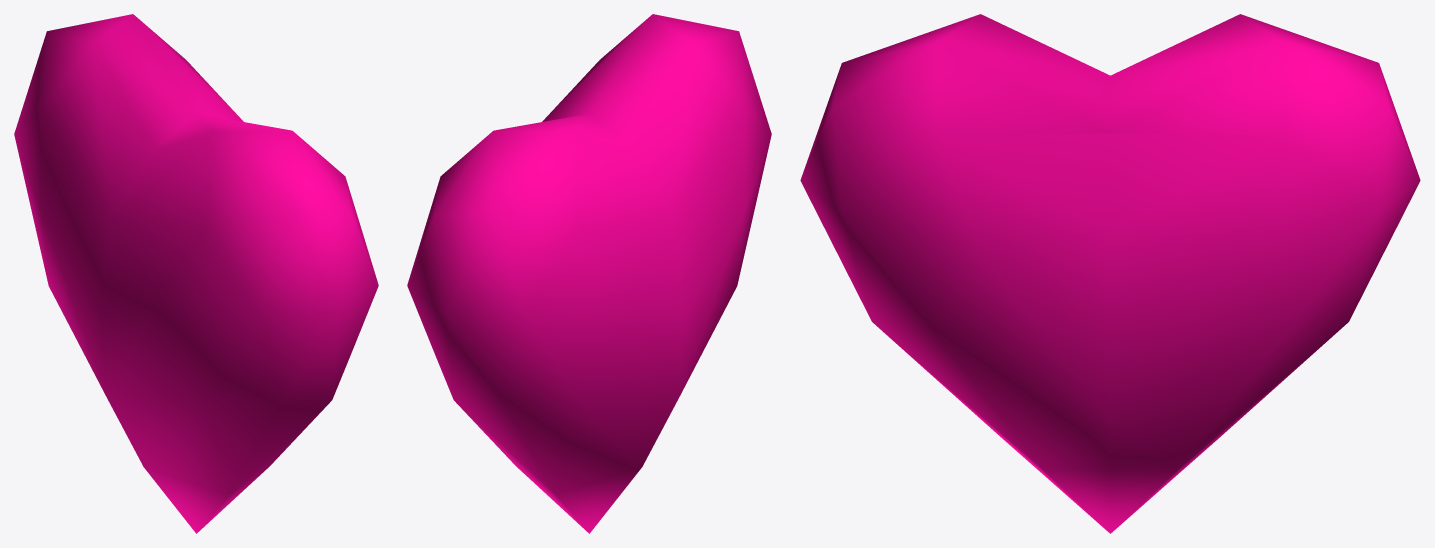
File: heart.glb
3 views of the same model, side by side, from view 1: azimuth 30°, elevation 25°; view 2: azimuth 150°, elevation 25°; view 3: azimuth 270°, elevation 25° (orthographic). The views are drawn at different scales.
Visible parts, largest first — view 1: heart; view 2: heart; view 3: heart.
Boxes of the visible parts, x1=… form: heart: x1=14, y1=14, x2=378, y2=533; heart: x1=407, y1=14, x2=771, y2=533; heart: x1=800, y1=14, x2=1420, y2=533.
Size of the model in its own units: 2.66 by 6.08 by 6.85.
Materials: 1 (1 with a texture image).
